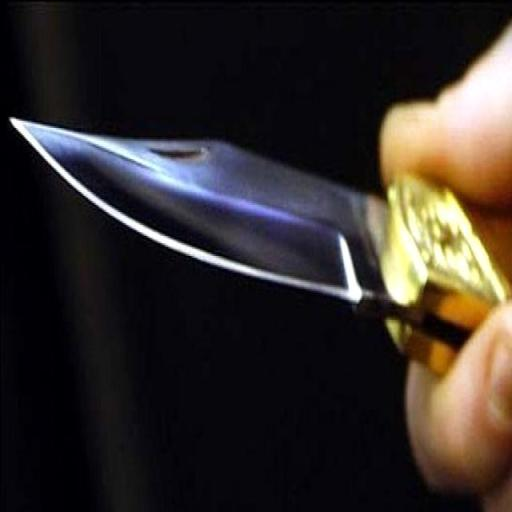knife: (12, 118, 512, 376)
